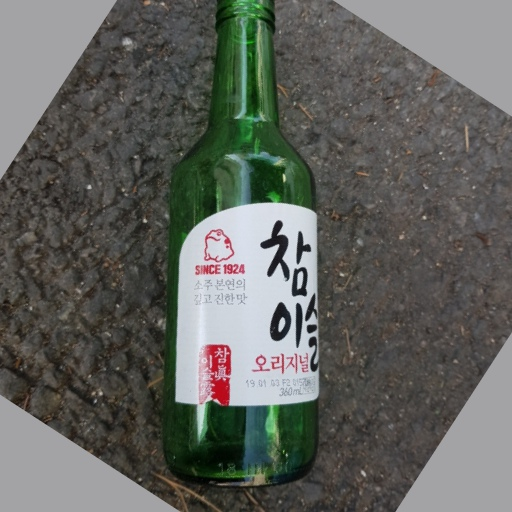Glass_0: (163, 1, 323, 485)
